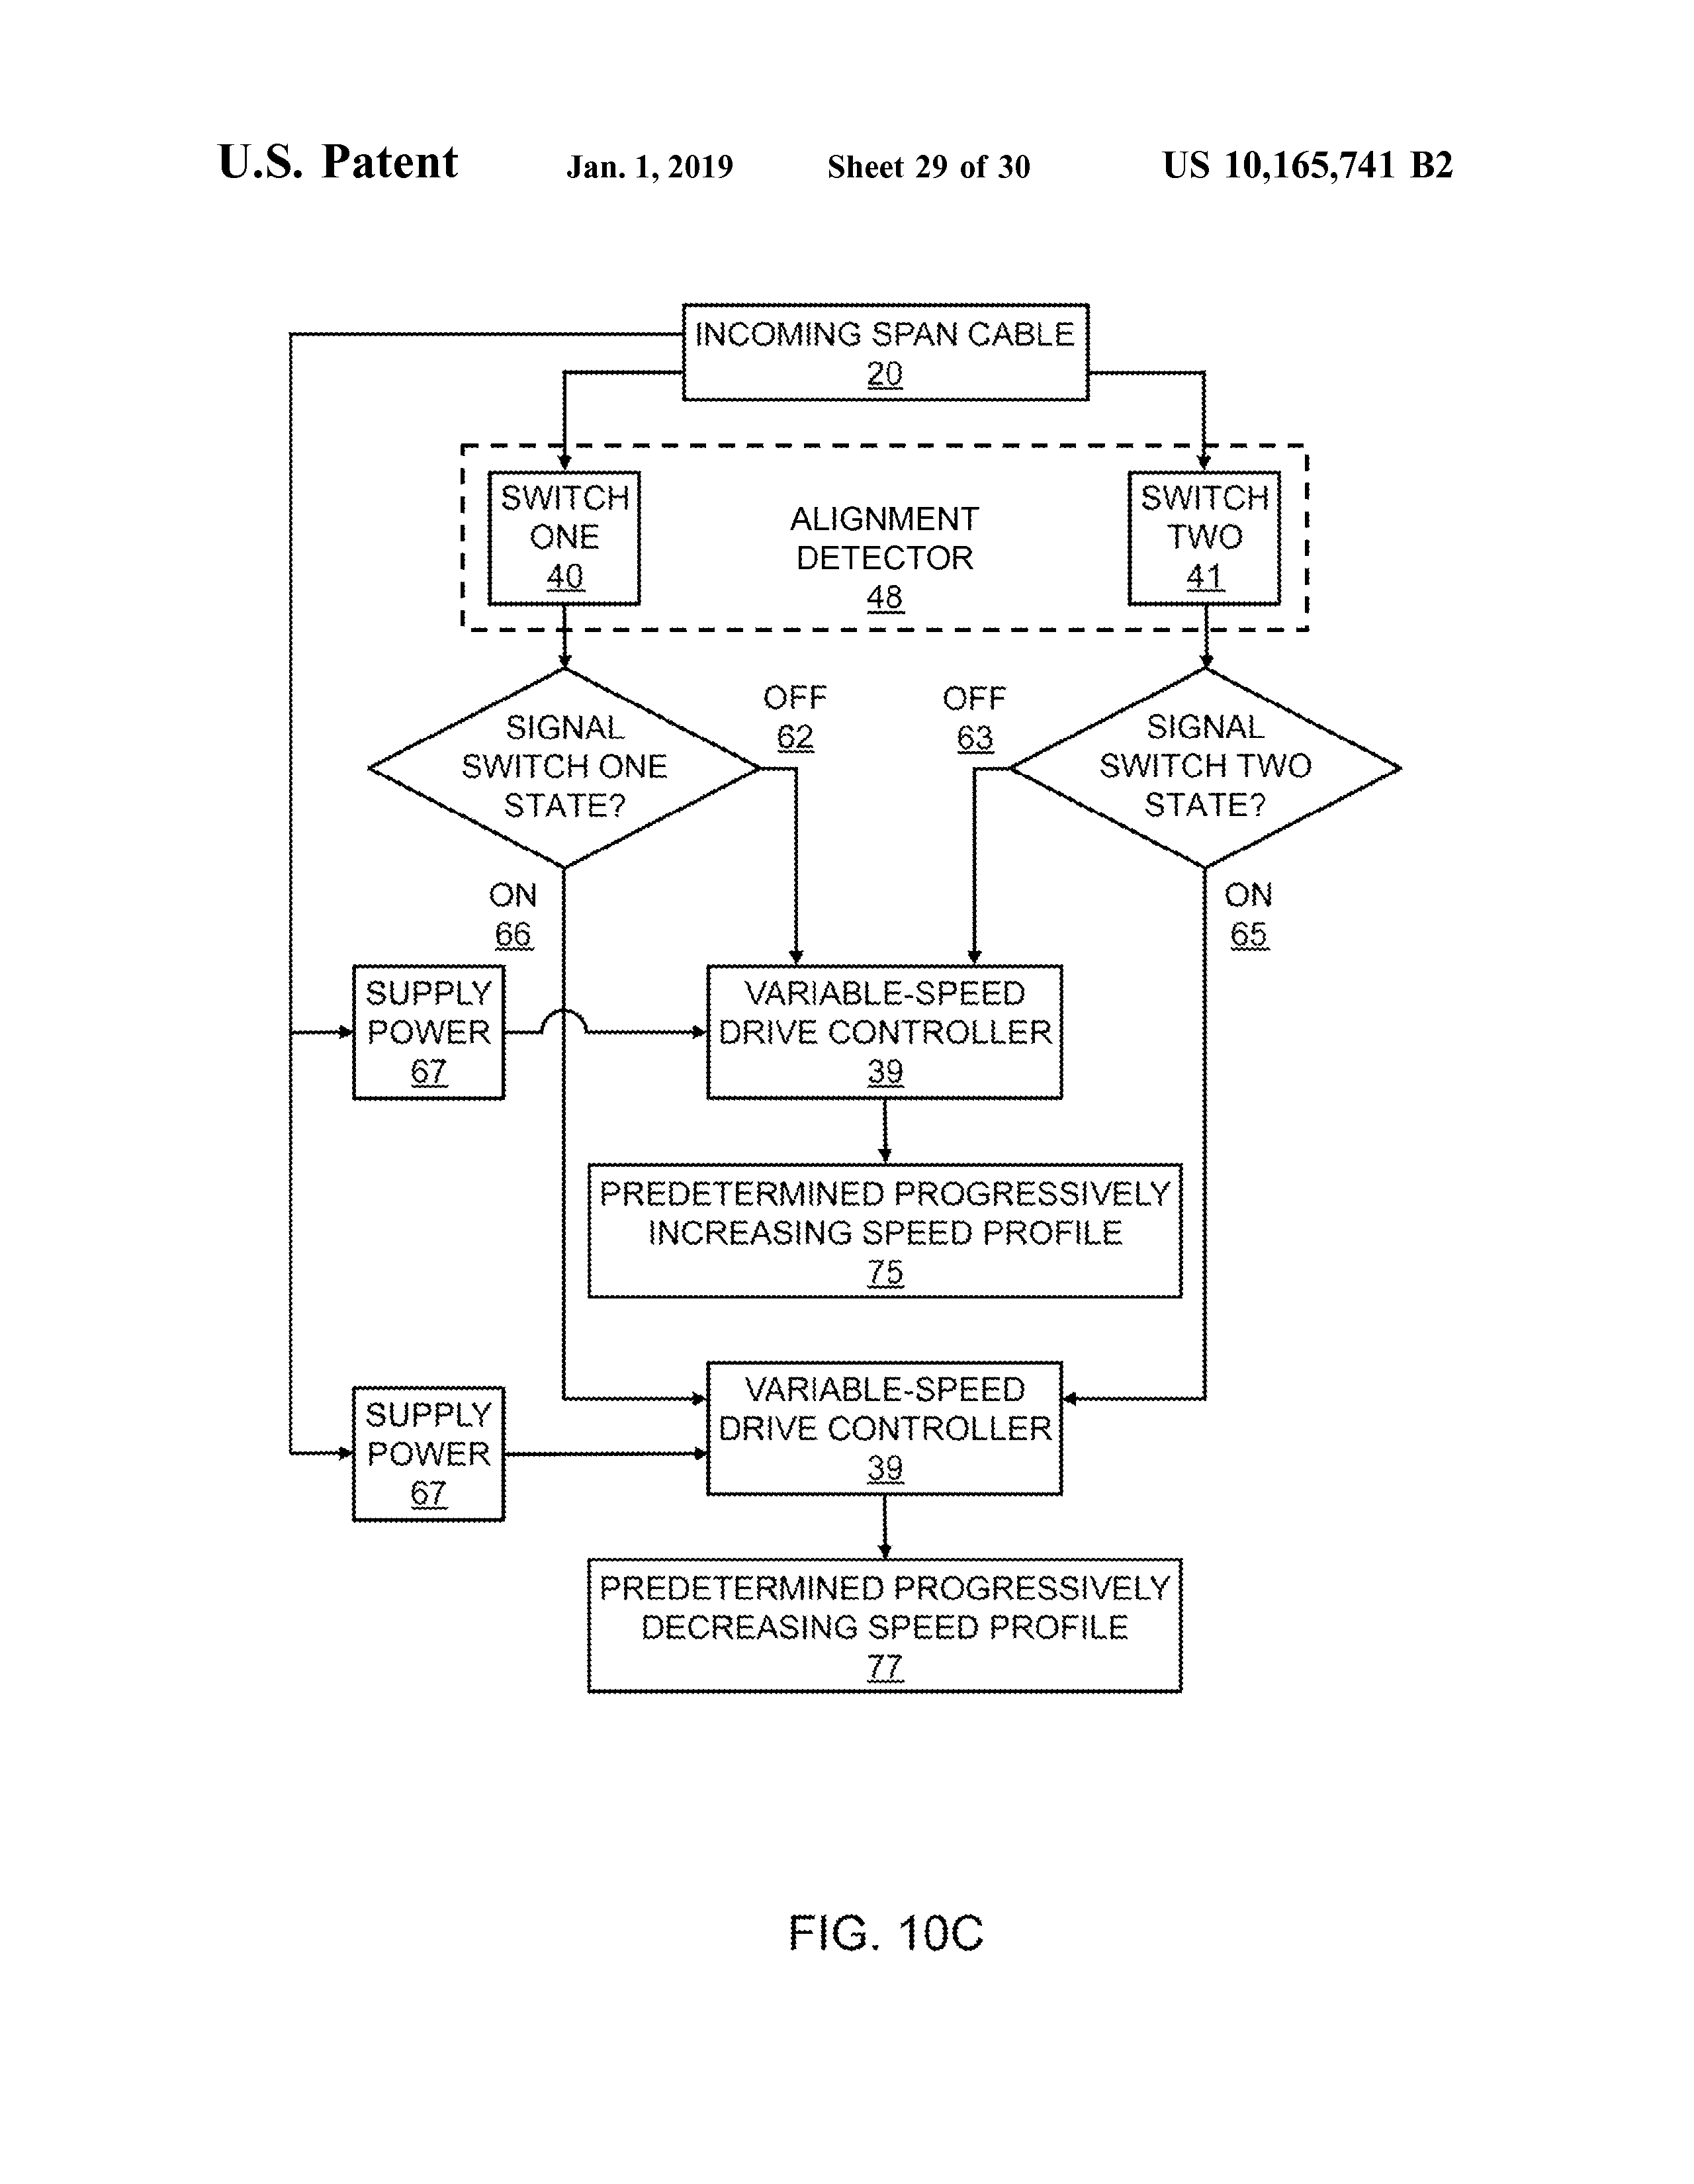patent image: (231, 279, 1411, 1969)
